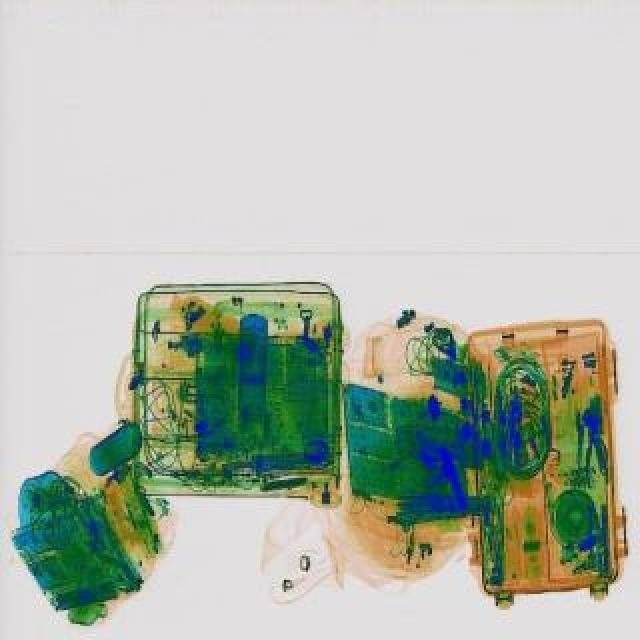scissors: (584, 502, 594, 564)
wrench: (580, 404, 614, 476), (578, 418, 610, 490)
